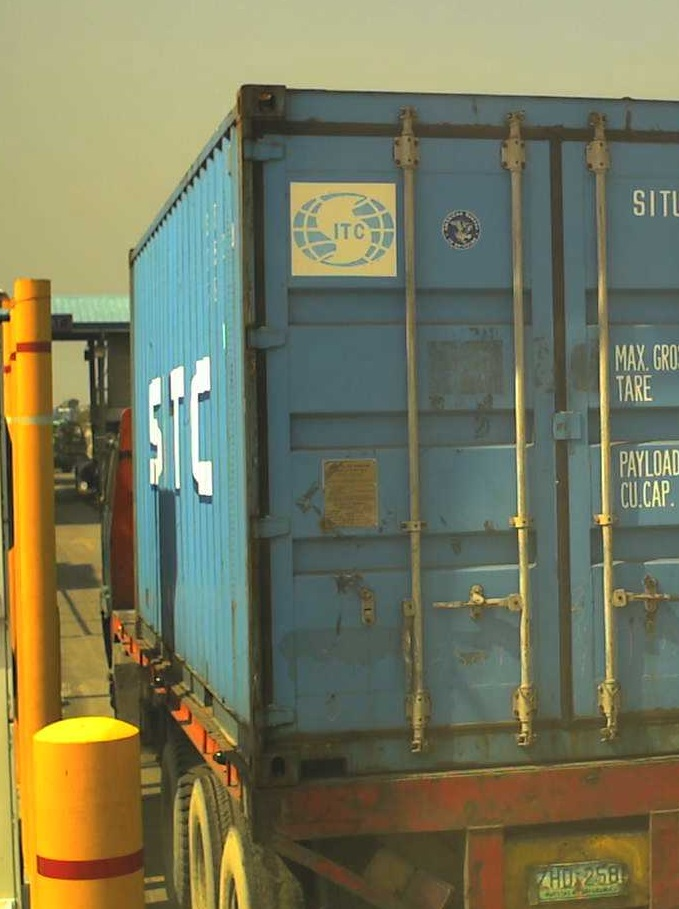container_door: (236, 80, 679, 794)
